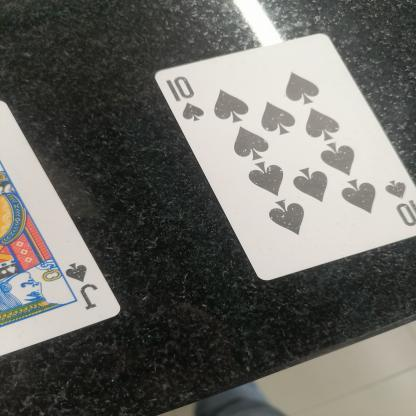10S: (158, 70, 204, 122), (384, 176, 416, 233)
JS: (54, 262, 126, 318)
